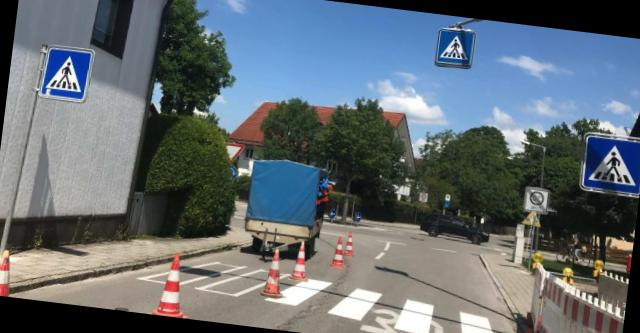crosswalk-sign: (578, 131, 640, 197), (39, 44, 96, 104), (435, 26, 478, 70)
